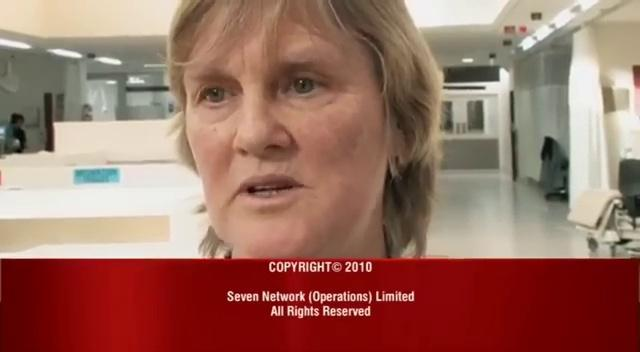others: (163, 1, 445, 259)
